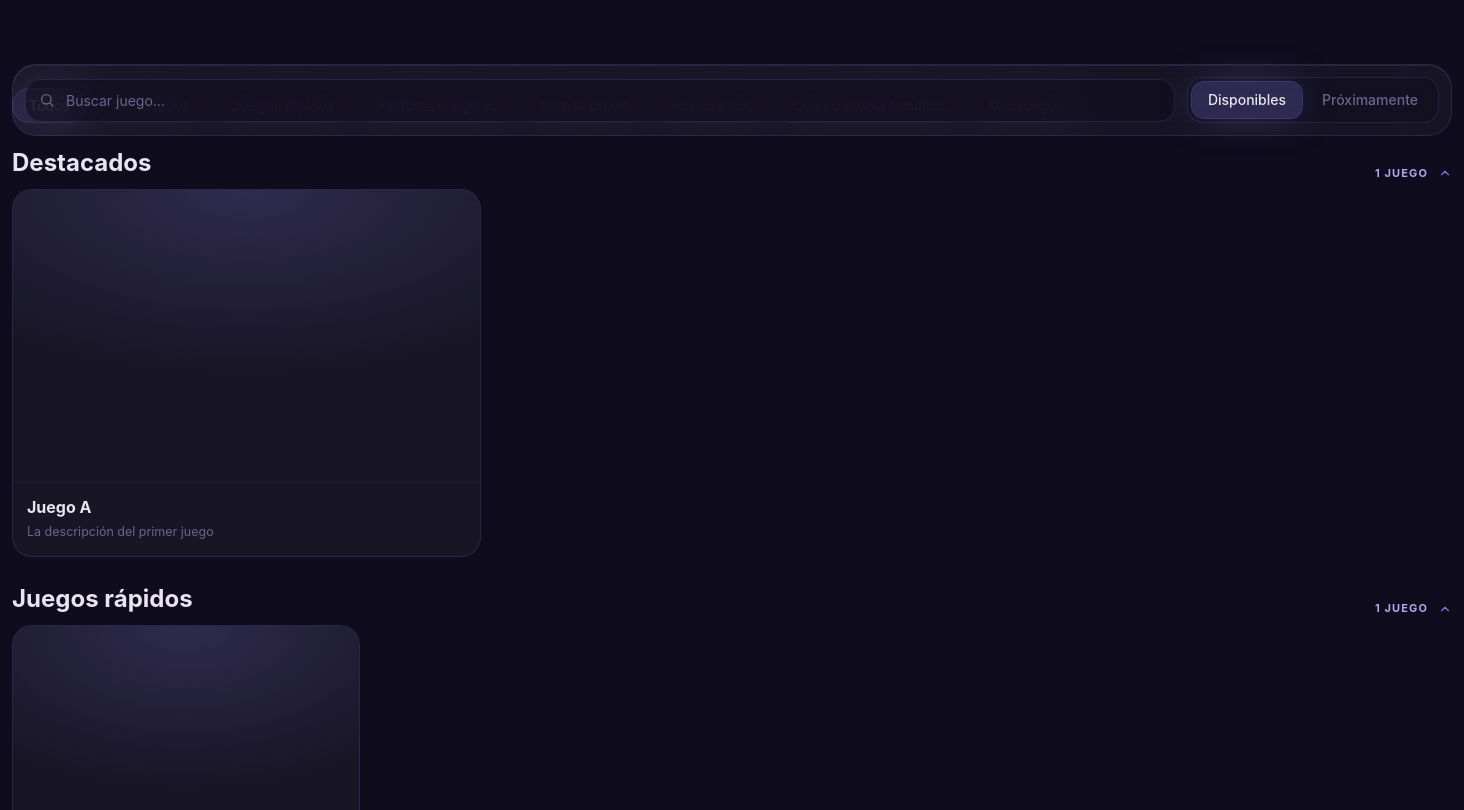
Test: GamePicker › search input filters to a single 'Resultados' section
This screenshot has width=1464, height=810.
Type "Juego A" into the field with placeholder "Buscar juego…".
click(600, 100); type("Juego A")  # box [25,78,1175,122]
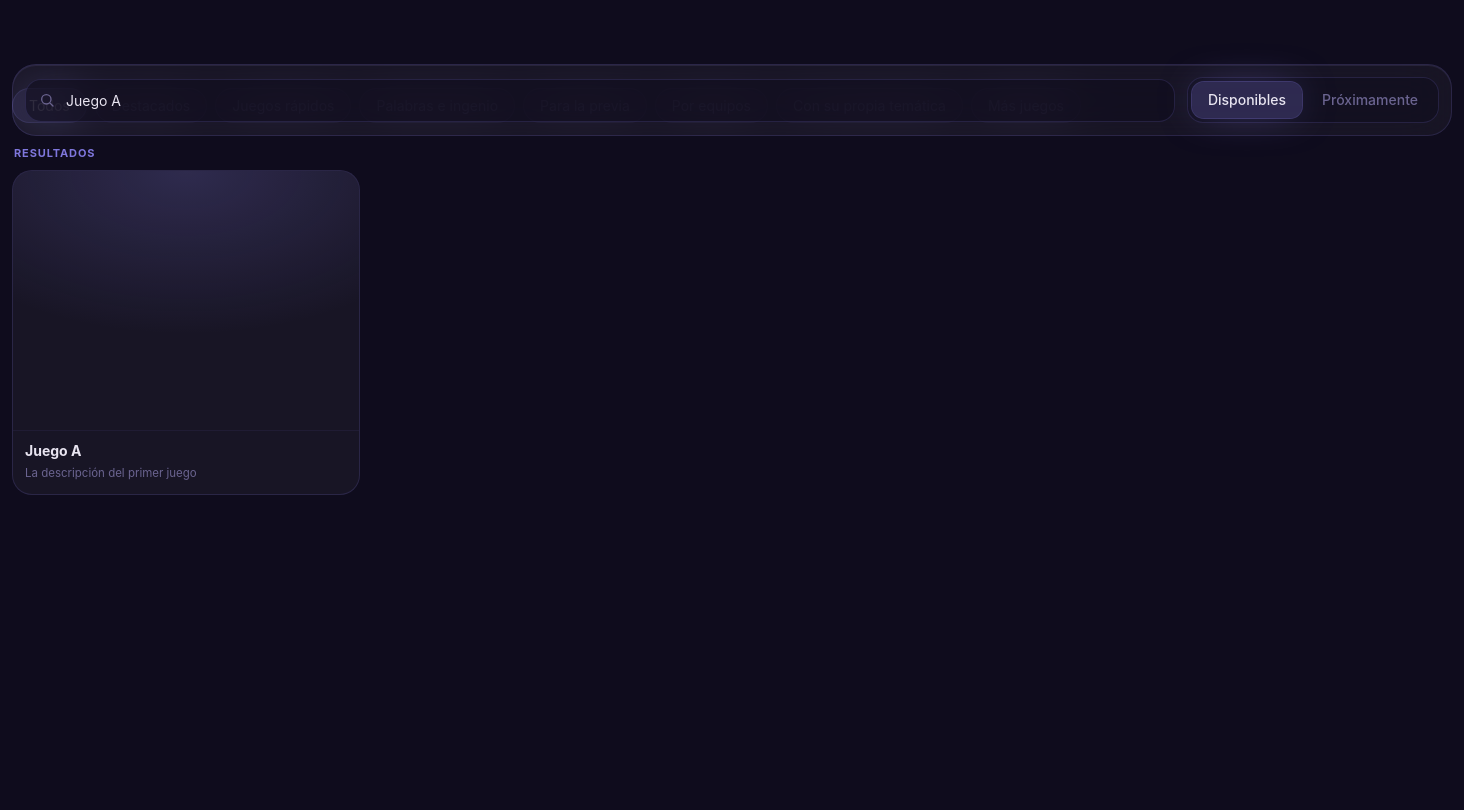
Expected: the text "Juego A" is shown, [25,442,81,459]
Expected: the text "Resultados" is shown, [14,146,95,160]
